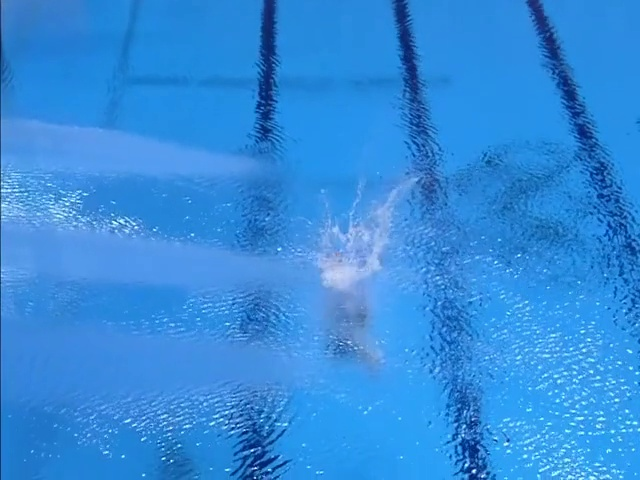splash: (298, 173, 423, 292)
